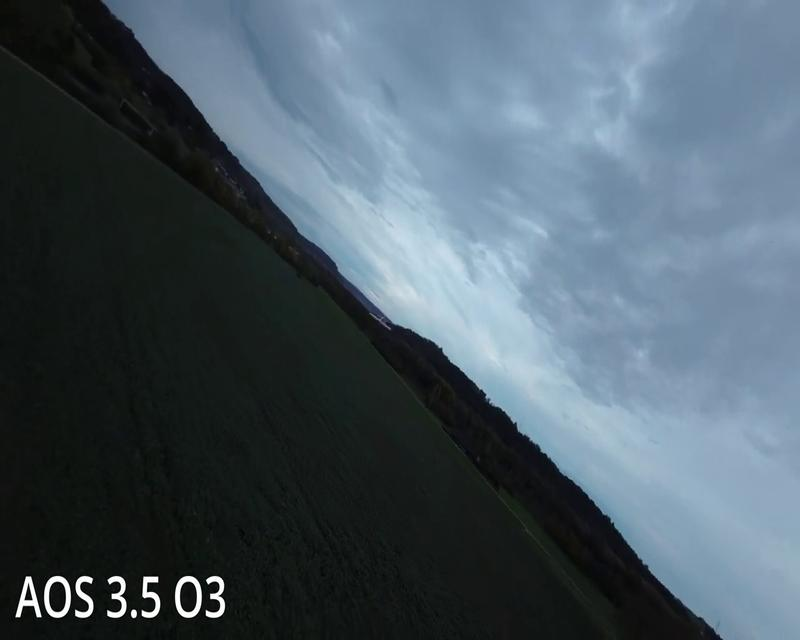UAV: (13, 572, 227, 621), (368, 311, 392, 331)
